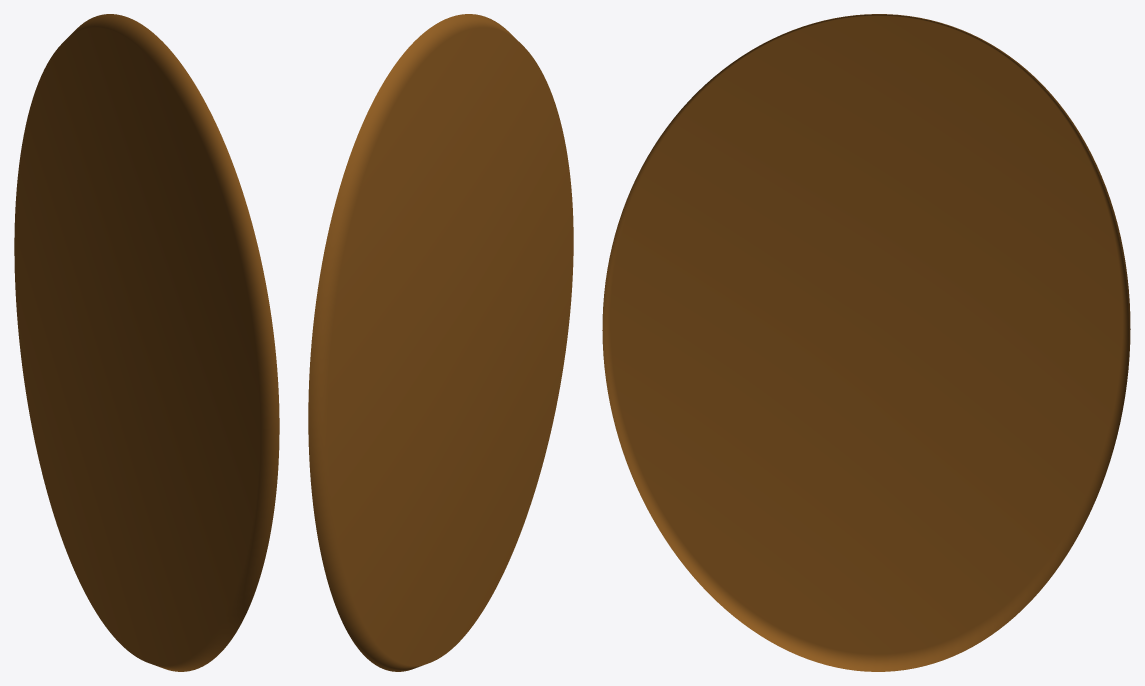
Rendered from SM_Amber_Backing.obj.
The picture shows the model from 3 angles, left to right: view 1: azimuth 30°, elevation 25°; view 2: azimuth 150°, elevation 25°; view 3: azimuth 270°, elevation 25°; orthographic projection. The views are drawn at different scales.
Visible parts, largest first — view 1: Backing; view 2: Backing; view 3: Backing.
Boxes of the visible parts, left/top/right/bottom form: Backing: left=14, top=14, right=279, bottom=671; Backing: left=308, top=14, right=573, bottom=671; Backing: left=602, top=14, right=1130, bottom=671.
Bounding box in the file's own units: 0.285 × 11 × 8.
